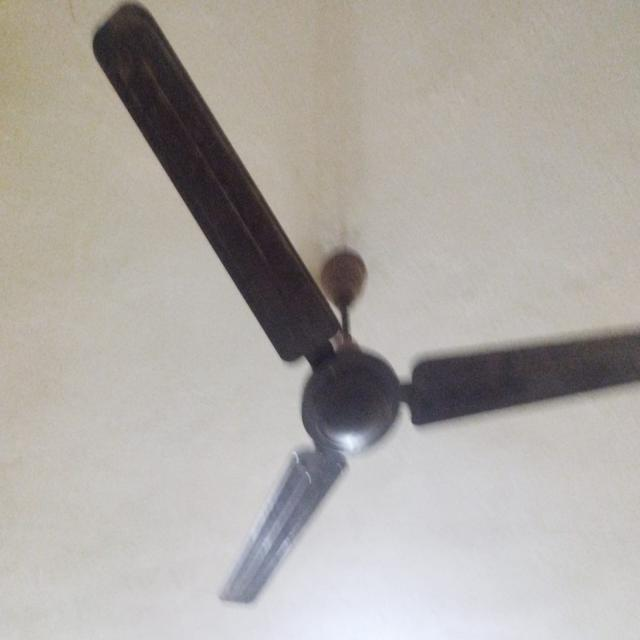fan_off: (90, 0, 640, 606)
